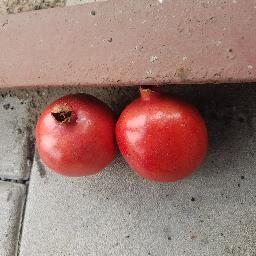pomegranate: (115, 85, 210, 181), (35, 93, 118, 177)
